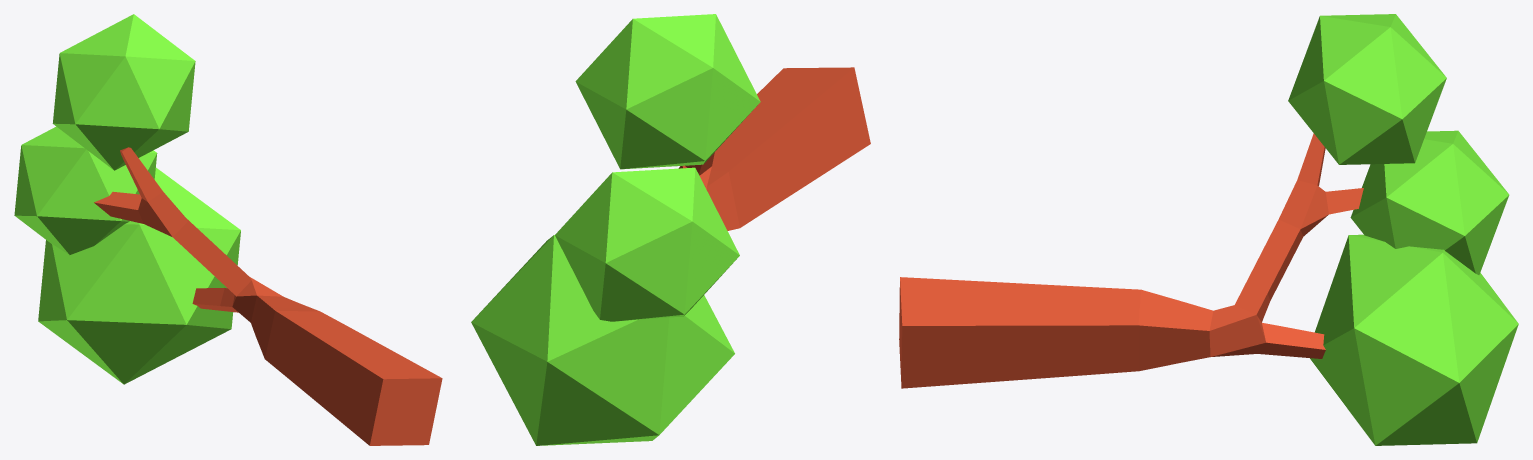
The model's file is arvore1verdeOFICIAL1.fbx.
3 views of the same model, side by side, from view 1: azimuth 30°, elevation 25°; view 2: azimuth 150°, elevation 25°; view 3: azimuth 270°, elevation 25° (orthographic). The views are drawn at different scales.
Visible parts, largest first — view 1: Cube; view 2: Cube; view 3: Cube.
Boxes of the visible parts, <box> form: Cube: <box>14,14,442,445</box>; Cube: <box>471,14,870,445</box>; Cube: <box>899,14,1518,445</box>.
Size of the model in its own units: 115 by 197 by 273.
